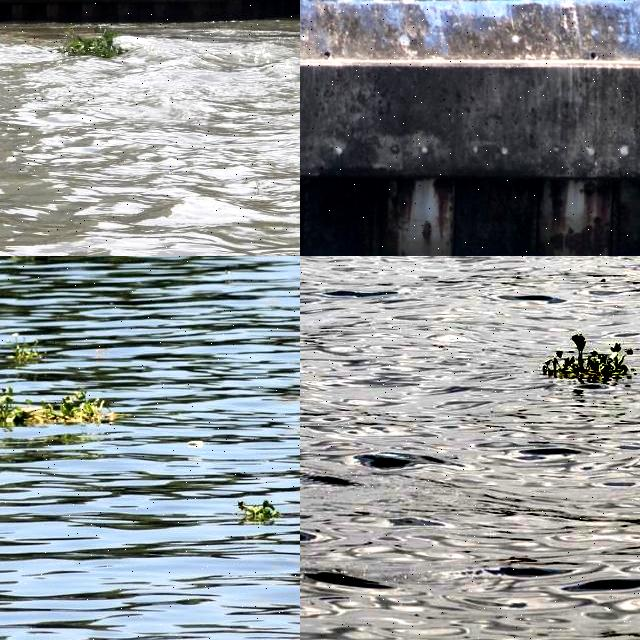water-hyacinth: (539, 330, 634, 385), (1, 390, 124, 428), (59, 29, 130, 70), (1, 334, 48, 370), (234, 494, 280, 524), (1, 331, 17, 347)
